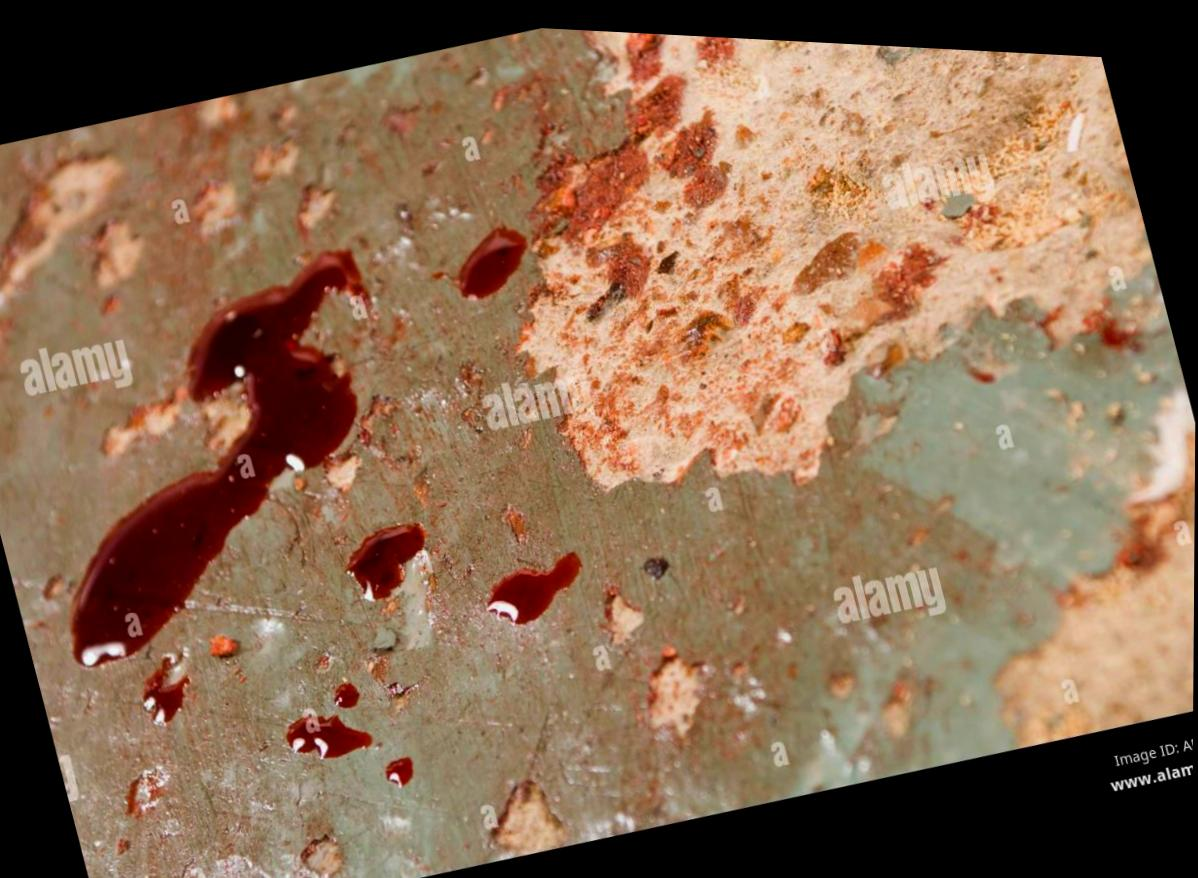Fire: (71, 245, 371, 667), (485, 546, 583, 619), (348, 518, 425, 595), (452, 221, 526, 293), (286, 710, 373, 755), (144, 655, 192, 718), (386, 752, 415, 781), (334, 679, 360, 703)
